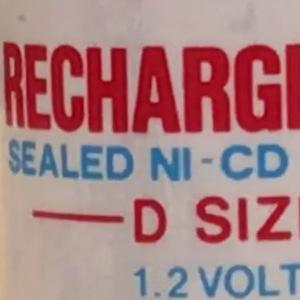keyword: (141, 134, 298, 212)
